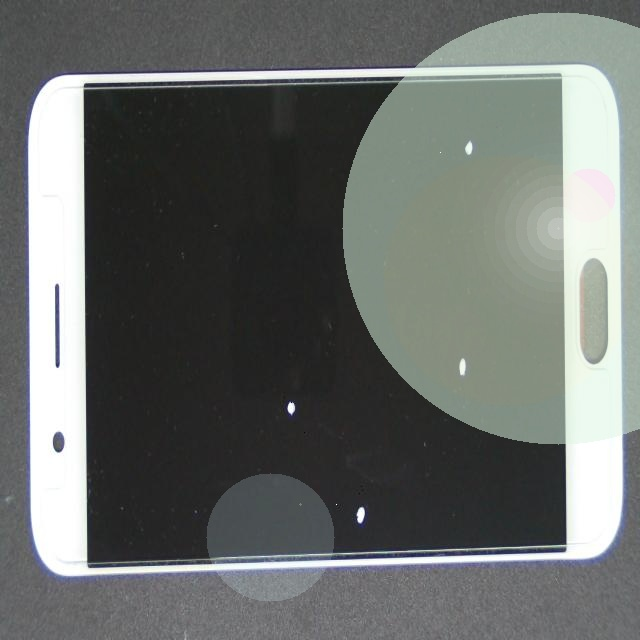stain: (217, 194, 640, 581), (187, 217, 515, 640), (125, 205, 420, 640), (219, 94, 640, 283)
